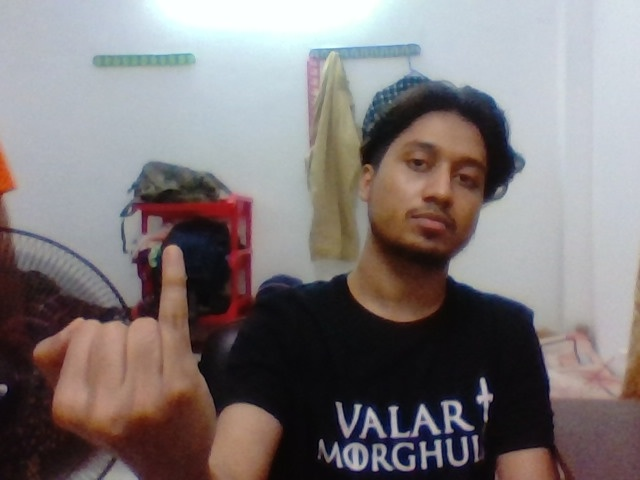I: (67, 240, 232, 446)
